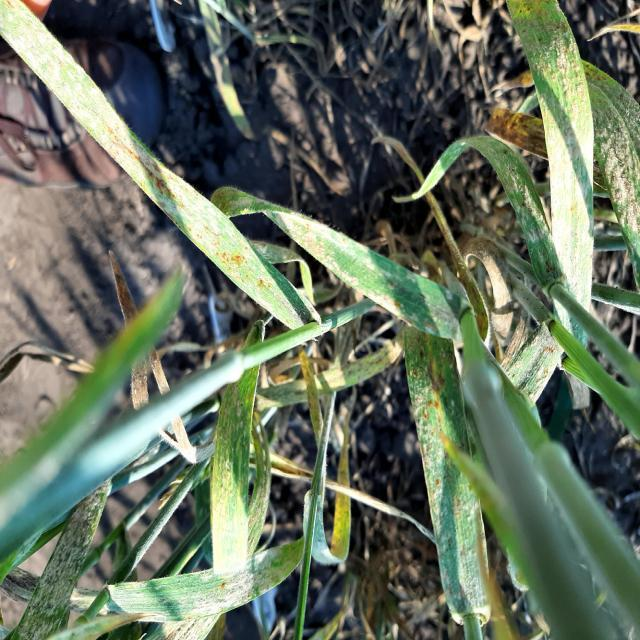wheat-powdery-mildew: (507, 0, 594, 317), (4, 482, 113, 639)
